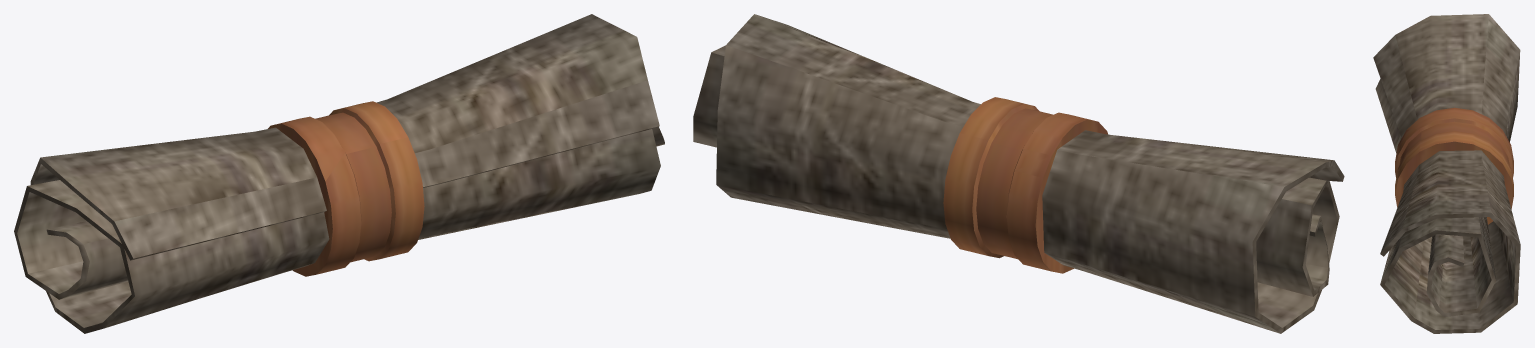
The model's file is tr_scroll_2.glb.
3 views of the same model, side by side, from view 1: azimuth 30°, elevation 25°; view 2: azimuth 150°, elevation 25°; view 3: azimuth 270°, elevation 25° (orthographic). The views are drawn at different scales.
Parts seen in each view (by area): view 1: model; view 2: model; view 3: model.
Boxes of the visible parts, <box> form: model: <box>14,14,664,333</box>; model: <box>693,14,1344,333</box>; model: <box>1373,14,1520,333</box>.
Size of the model in its own units: 0.2329 by 0.0587 by 0.0637.
Materials: 2 (2 with a texture image).
